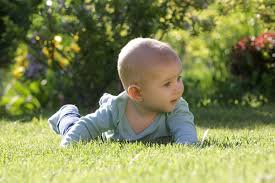child: (45, 36, 215, 151)
